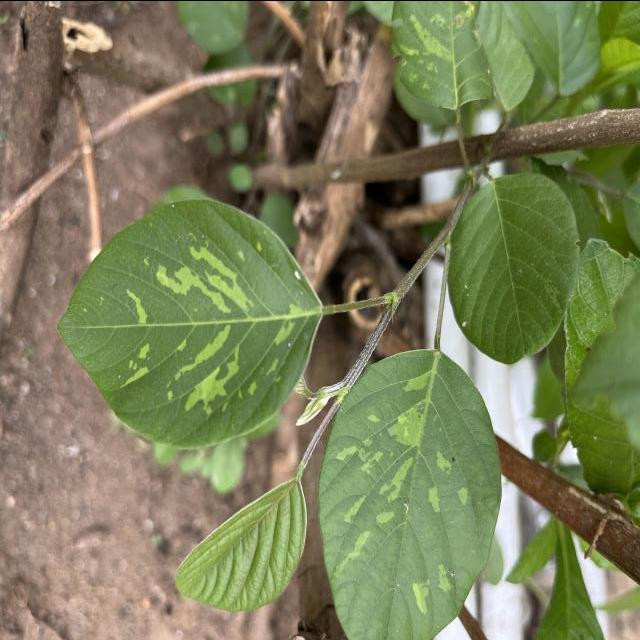Desmodium gangeticum: (53, 194, 327, 452), (317, 340, 505, 638)
